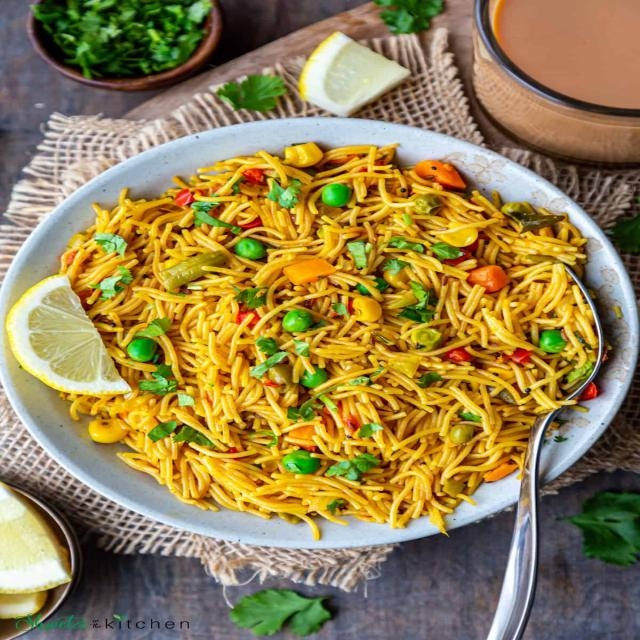POHA: (58, 144, 587, 527)
